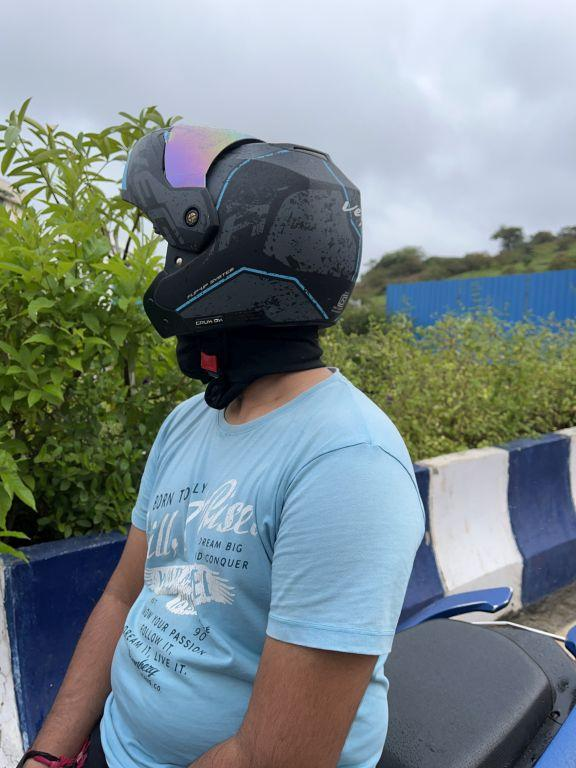helmet: (110, 112, 377, 363)
